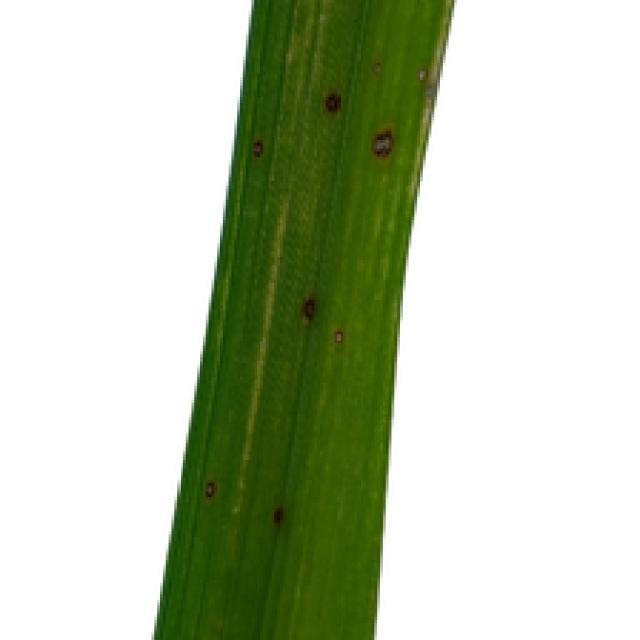Rice___Brown_Spot: (154, 2, 456, 637)
